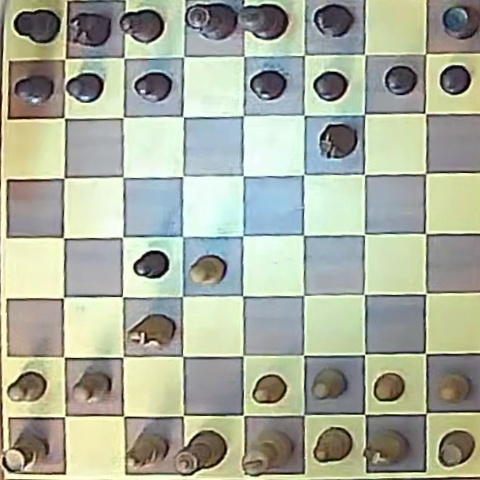black-bishop: (120, 9, 164, 44), (313, 4, 353, 38)
black-king: (238, 4, 287, 40)
black-knight: (69, 12, 112, 47), (319, 124, 356, 158)
black-pawn: (14, 75, 54, 105), (66, 72, 104, 102), (133, 72, 171, 102), (250, 70, 286, 100), (133, 250, 169, 279), (384, 65, 418, 95), (313, 71, 347, 101), (439, 65, 471, 95)
black-queen: (185, 3, 237, 40)
black-rook: (14, 9, 60, 44), (442, 5, 480, 39)
white-bishop: (127, 432, 168, 469), (313, 427, 353, 463)
white-king: (243, 429, 293, 475)
white-knight: (127, 314, 175, 349), (363, 430, 408, 466)
white-pawn: (72, 371, 111, 404), (7, 371, 47, 403), (189, 256, 225, 286), (312, 368, 346, 399), (253, 374, 287, 404), (437, 373, 470, 403), (374, 373, 405, 402)
white-queen: (172, 430, 226, 474)
white-rook: (3, 434, 46, 472), (437, 431, 475, 467)
